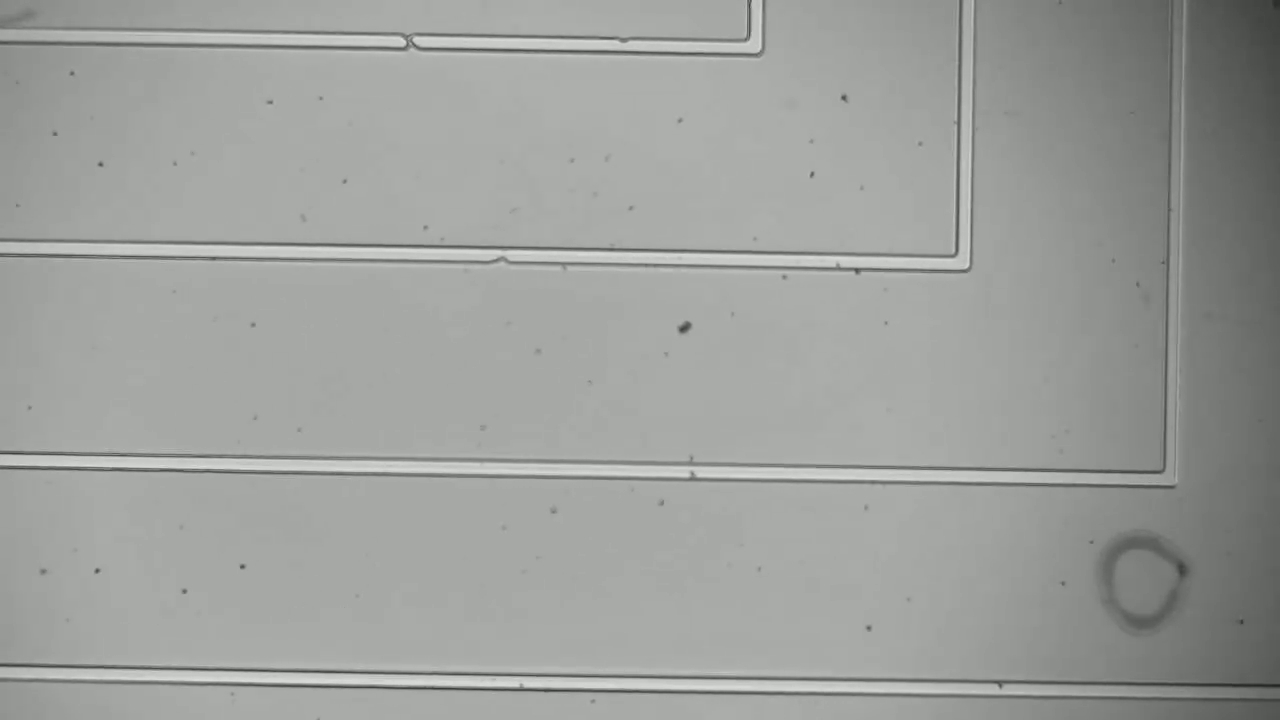edge_bite: (394, 21, 426, 57), (485, 240, 517, 273)
